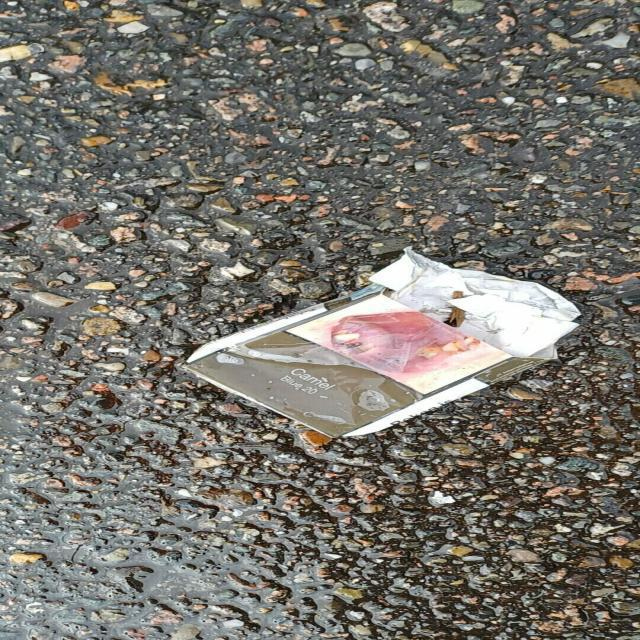Paper: (176, 244, 585, 441)
